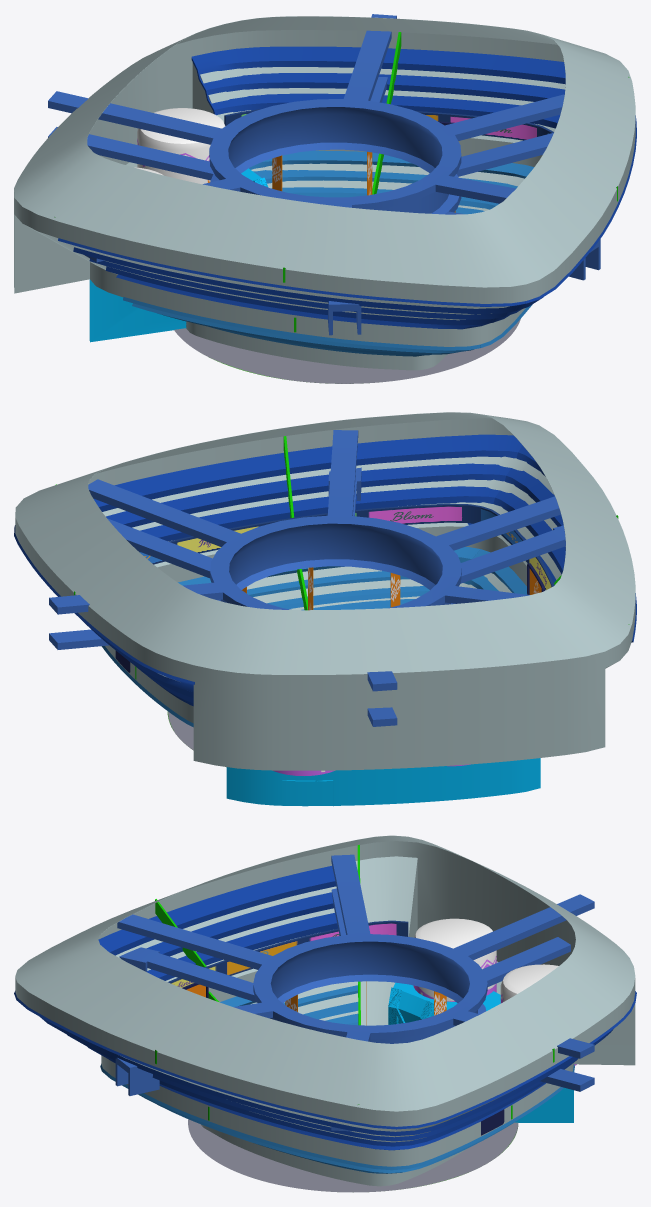
File: 棒球場Mango.fbx
3 renders of one model, top to bottom at view 1: azimuth 30°, elevation 25°; view 2: azimuth 150°, elevation 25°; view 3: azimuth 270°, elevation 25°, orthographic. The views are drawn at different scales.
Visible parts, largest first — view 1: 球場, 天頂, 階梯2, 階梯, Circle.001, 球場.001, 油桶.003, 柵欄1, 分隔, Plane; view 2: 球場, 天頂, 階梯2, 球場.001, 階梯, 柵欄1, 分隔, Plane; view 3: 球場, 天頂, 階梯2, Circle.001, 階梯, 球場.001, 油桶, 柵欄1, 油桶.003, 分隔.
Boxes of the visible parts, bbox=[...] form: 球場: bbox=[14, 16, 635, 370]; 天頂: bbox=[48, 14, 600, 335]; 階梯2: bbox=[58, 46, 636, 329]; 階梯: bbox=[123, 150, 534, 356]; Circle.001: bbox=[174, 319, 520, 383]; 球場.001: bbox=[89, 168, 267, 342]; 油桶.003: bbox=[137, 108, 225, 184]; 柵欄1: bbox=[224, 109, 553, 140]; 分隔: bbox=[54, 32, 629, 332]; Plane: bbox=[272, 151, 455, 212]; 球場: bbox=[15, 412, 635, 770]; 天頂: bbox=[49, 430, 565, 726]; 階梯2: bbox=[14, 434, 636, 706]; 球場.001: bbox=[226, 758, 540, 806]; 階梯: bbox=[101, 547, 527, 727]; 柵欄1: bbox=[139, 503, 554, 589]; 分隔: bbox=[56, 436, 629, 679]; Plane: bbox=[242, 567, 400, 610]; 球場: bbox=[15, 835, 635, 1186]; 天頂: bbox=[115, 854, 594, 1131]; 階梯2: bbox=[14, 866, 636, 1150]; Circle.001: bbox=[188, 1119, 518, 1192]; 階梯: bbox=[100, 985, 574, 1173]; 球場.001: bbox=[388, 982, 573, 1122]; 油桶: bbox=[413, 918, 496, 1001]; 柵欄1: bbox=[168, 920, 408, 987]; 油桶.003: bbox=[500, 964, 576, 1065]; 分隔: bbox=[155, 845, 554, 1120].
Bounding box in the file's own units: 78808 × 24909 × 76504.
